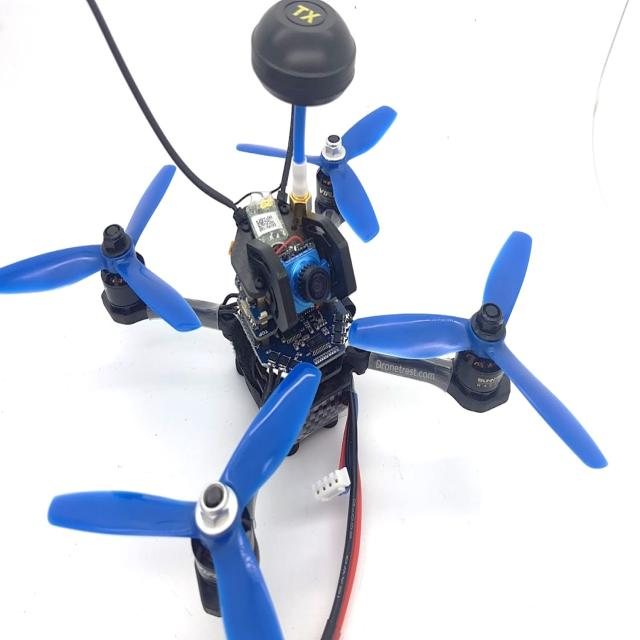drone: (3, 87, 640, 640)
